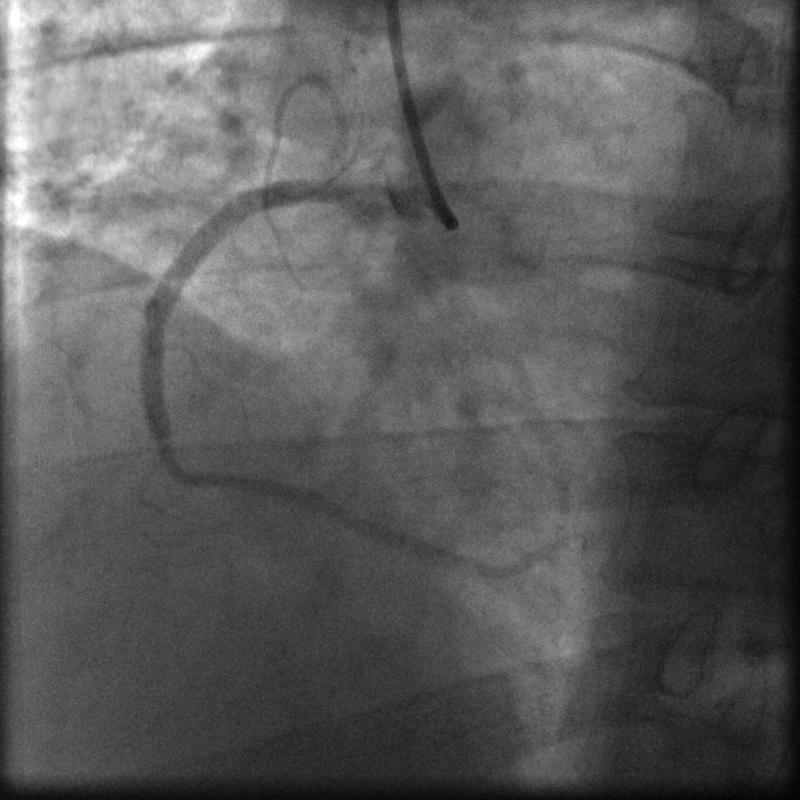Stenosis: (143, 415, 178, 479)
